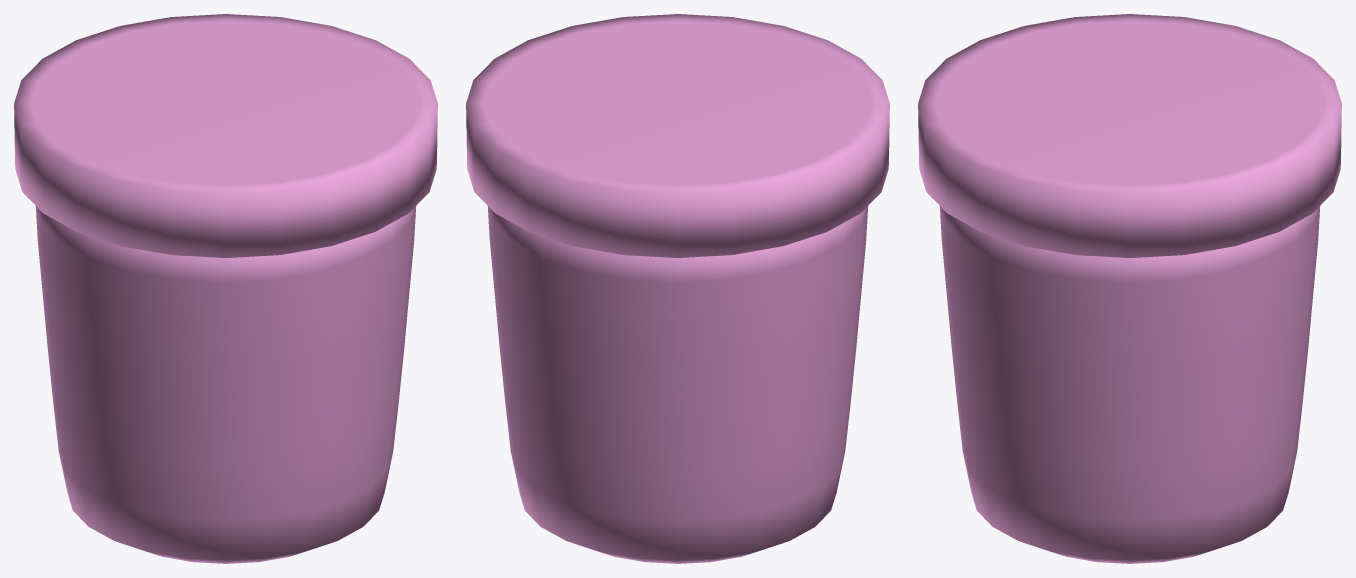
File: GelatoFragola500g.fbx
3 renders of one model, left to right at view 1: azimuth 30°, elevation 25°; view 2: azimuth 150°, elevation 25°; view 3: azimuth 270°, elevation 25°, orthographic.
Visible parts, largest first — view 1: GelatoBox; view 2: GelatoBox; view 3: GelatoBox.
Boxes of the visible parts, box(x1,y1,x2,y2) form: GelatoBox: box(14, 14, 437, 563); GelatoBox: box(466, 14, 889, 563); GelatoBox: box(918, 14, 1341, 563).
Bounding box in the file's own units: 375 × 397 × 375.
